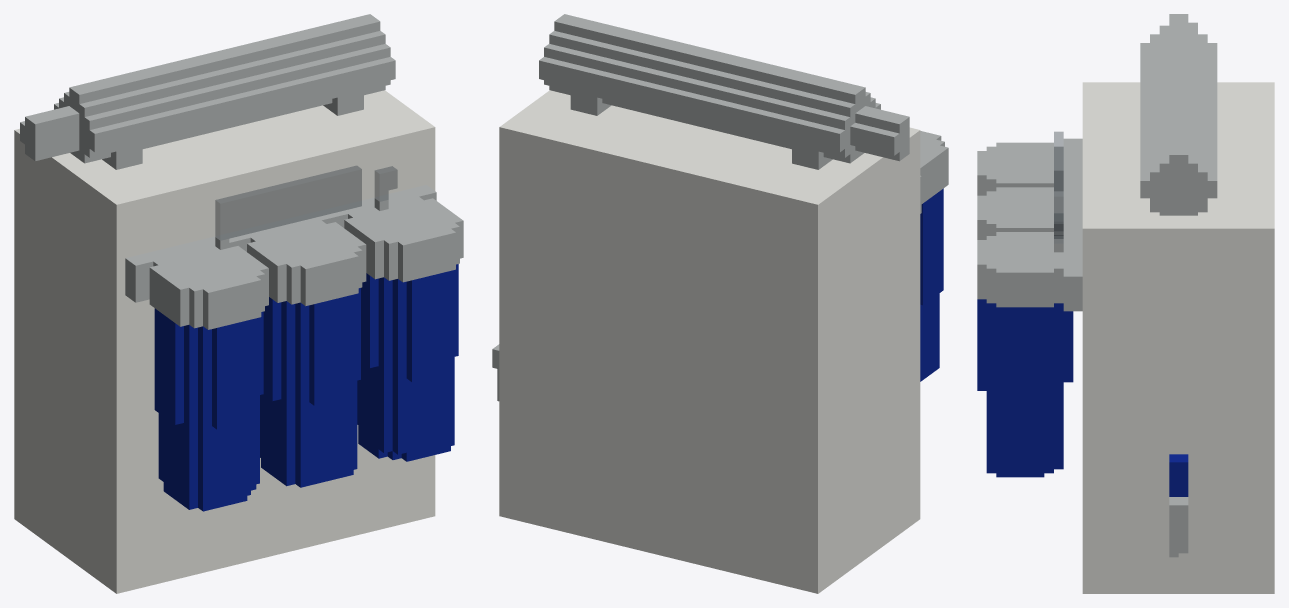
The model's file is stationary_water_purifier.glb.
3 renders of one model, left to right at view 1: azimuth 30°, elevation 25°; view 2: azimuth 150°, elevation 25°; view 3: azimuth 270°, elevation 25°, orthographic. The views are drawn at different scales.
Parts seen in each view (by area): view 1: stationary_water_purifier:compound; view 2: stationary_water_purifier:compound; view 3: stationary_water_purifier:compound.
Boxes of the visible parts, left/top/right/bottom form: stationary_water_purifier:compound: left=14, top=14, right=463, bottom=593; stationary_water_purifier:compound: left=492, top=14, right=948, bottom=593; stationary_water_purifier:compound: left=977, top=14, right=1274, bottom=593.
Size of the model in its own units: 0.46 by 0.5 by 0.31.
